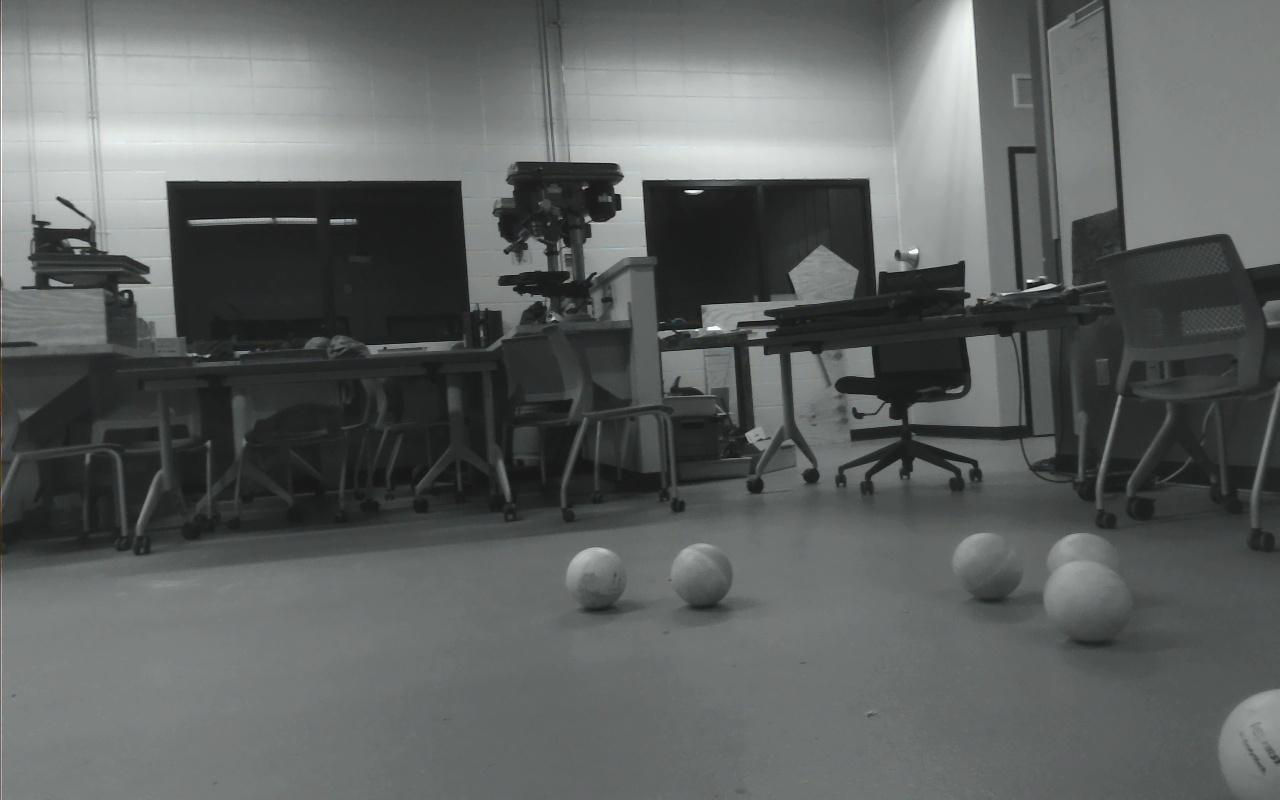Fuel: (1043, 560, 1132, 644), (1219, 688, 1280, 800), (1047, 533, 1121, 603), (952, 533, 1024, 602), (671, 542, 733, 607), (564, 548, 626, 609)
